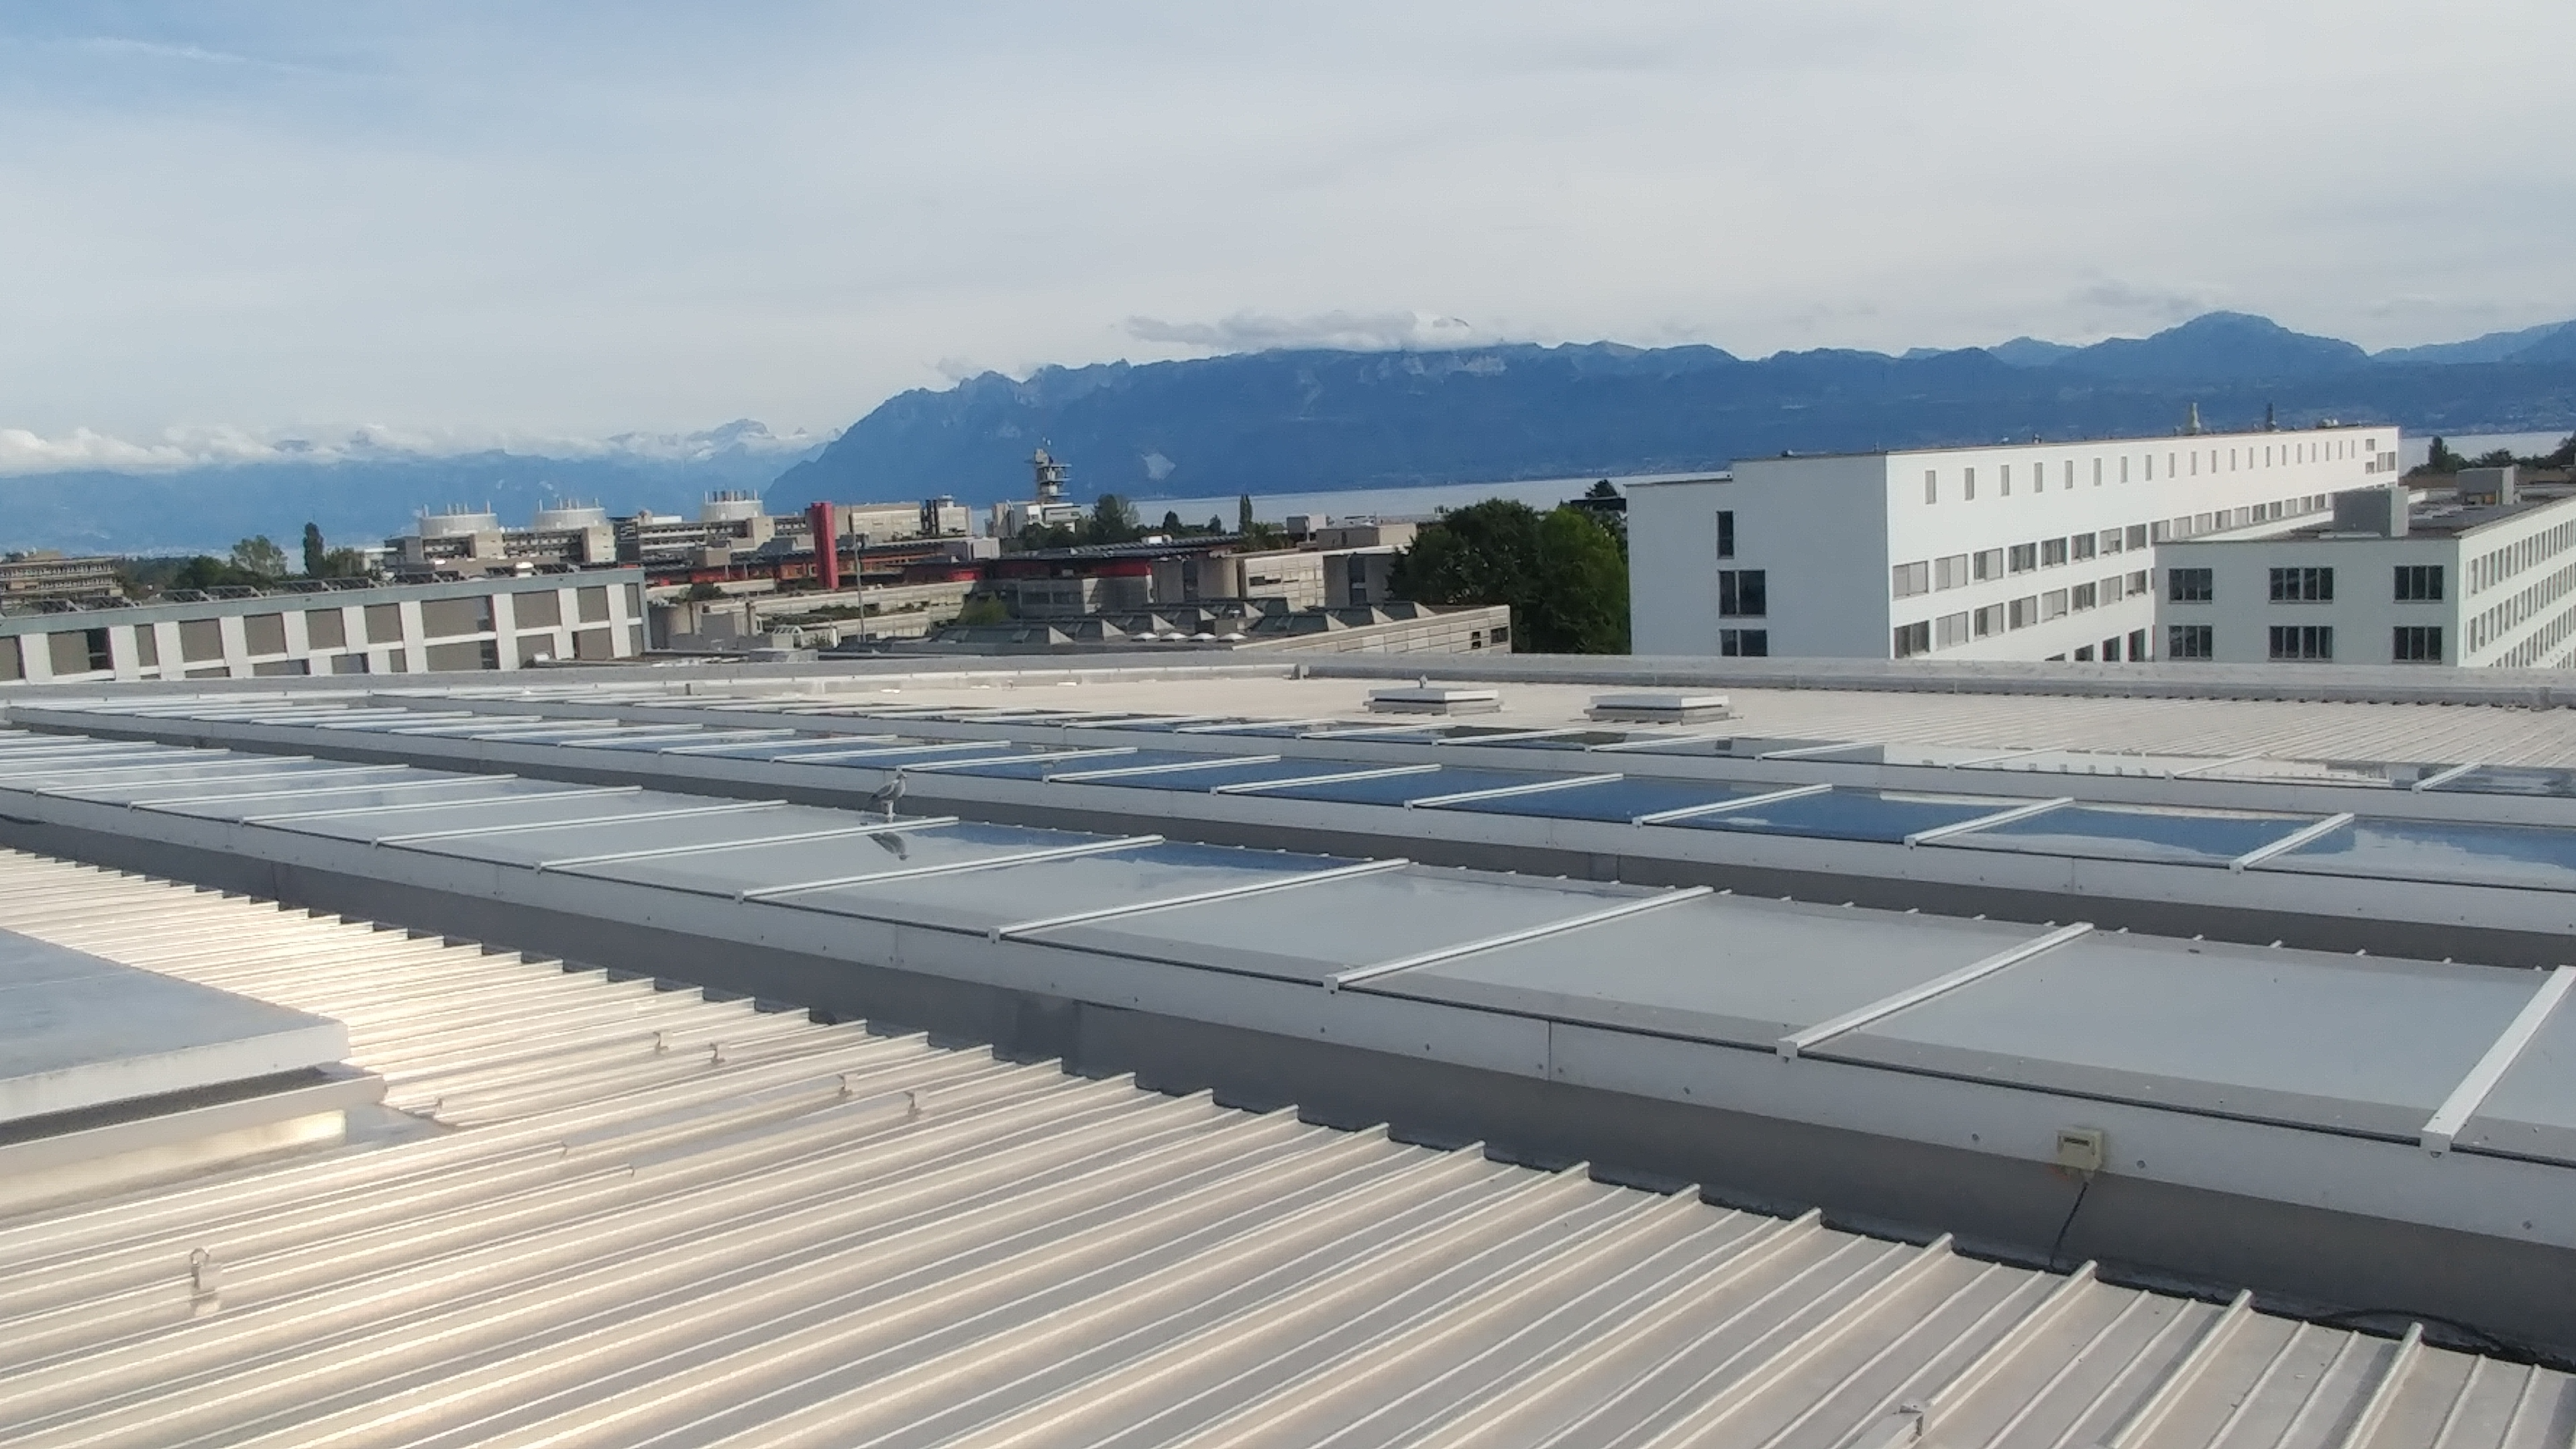Pigeon: (863, 768, 906, 823)
